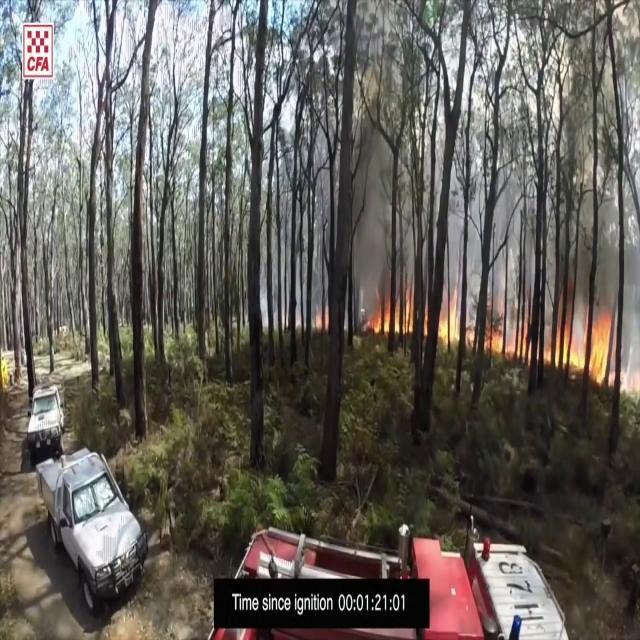Fire: (564, 302, 620, 390), (374, 288, 412, 337)
Smoke: (328, 93, 420, 317), (538, 174, 634, 315)
